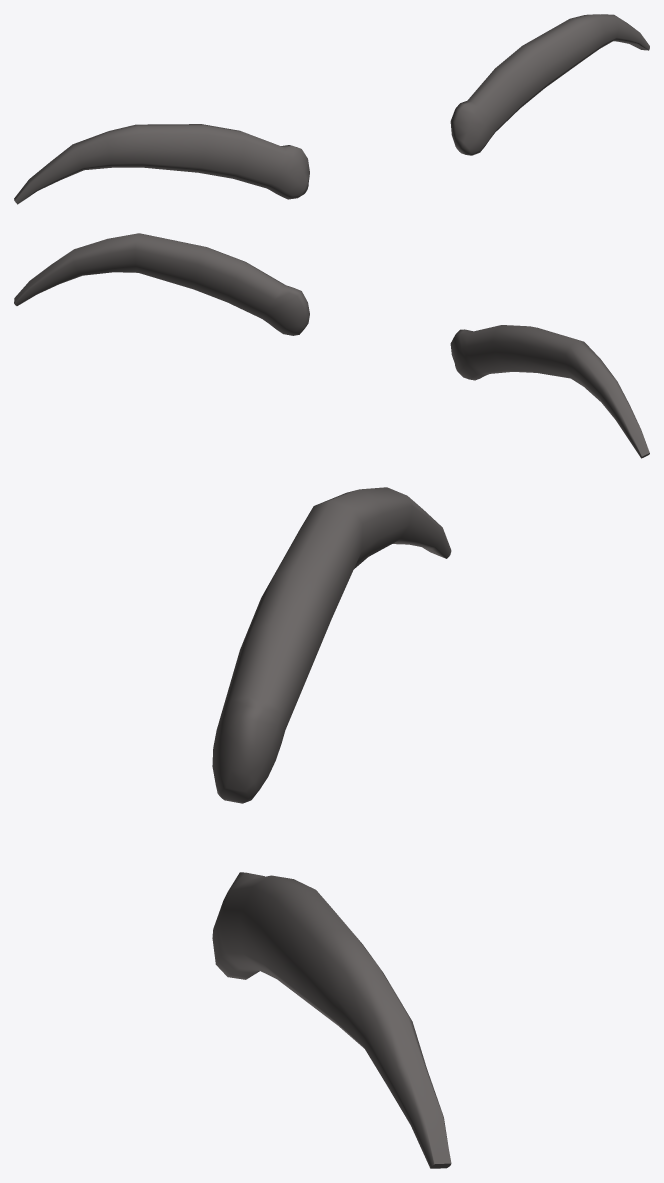
The model's file is Eyebrows_05_04.fbx.
The picture shows the model from 3 angles, top to bottom: view 1: azimuth 30°, elevation 25°; view 2: azimuth 150°, elevation 25°; view 3: azimuth 270°, elevation 25°; orthographic projection. The views are drawn at different scales.
Parts seen in each view (by area): view 1: Eyebrows_05_04; view 2: Eyebrows_05_04; view 3: Eyebrows_05_04.
Boxes of the visible parts, x1,y1,x2,y2 form: Eyebrows_05_04: (14,14,649,204); Eyebrows_05_04: (14,233,649,458); Eyebrows_05_04: (212,487,451,1168).
Size of the model in its own units: 19.76 by 2.56 by 3.22.
